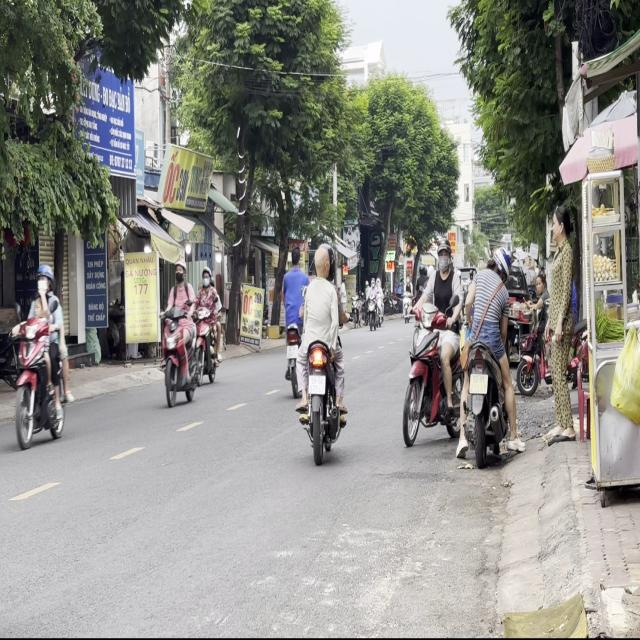helmet: (487, 246, 510, 283), (435, 238, 451, 275), (35, 262, 52, 296), (174, 258, 186, 284)
licenseplate: (458, 229, 519, 465), (400, 234, 464, 446), (294, 240, 350, 460), (8, 262, 70, 450), (158, 257, 199, 406), (279, 247, 308, 398)
motorcyclist: (312, 244, 330, 278), (289, 245, 301, 268)
nohelmet: (470, 373, 488, 393), (308, 375, 325, 395)
